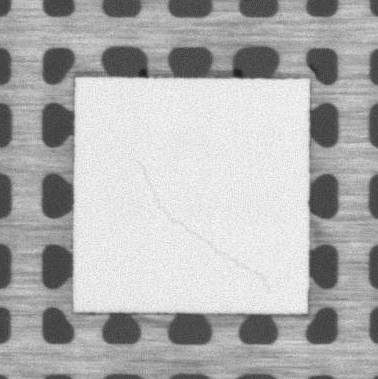DIE_CRACK: (141, 160, 275, 295)
